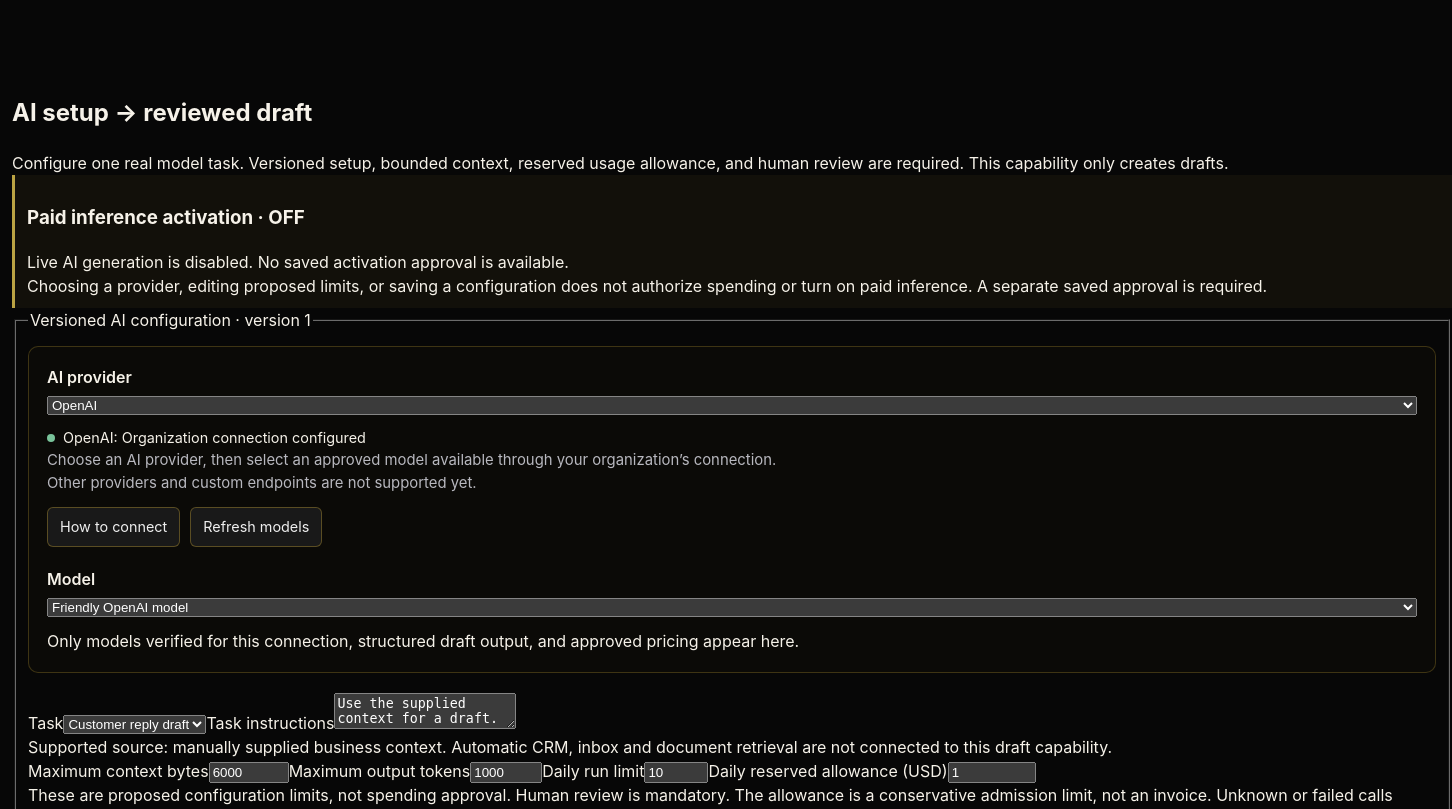
Test case: provider switch immediately clears model, then uses only models from the chosen provider
This screenshot has width=1452, height=809.
(page scrolled)
Expected: the text "Versioned AI configuration · version 1" is shown, [28, 308, 313, 332]
Select "Anthropic Claude" in the dropdown labelled "AI provider" at (732, 405), box [47, 396, 1417, 415]
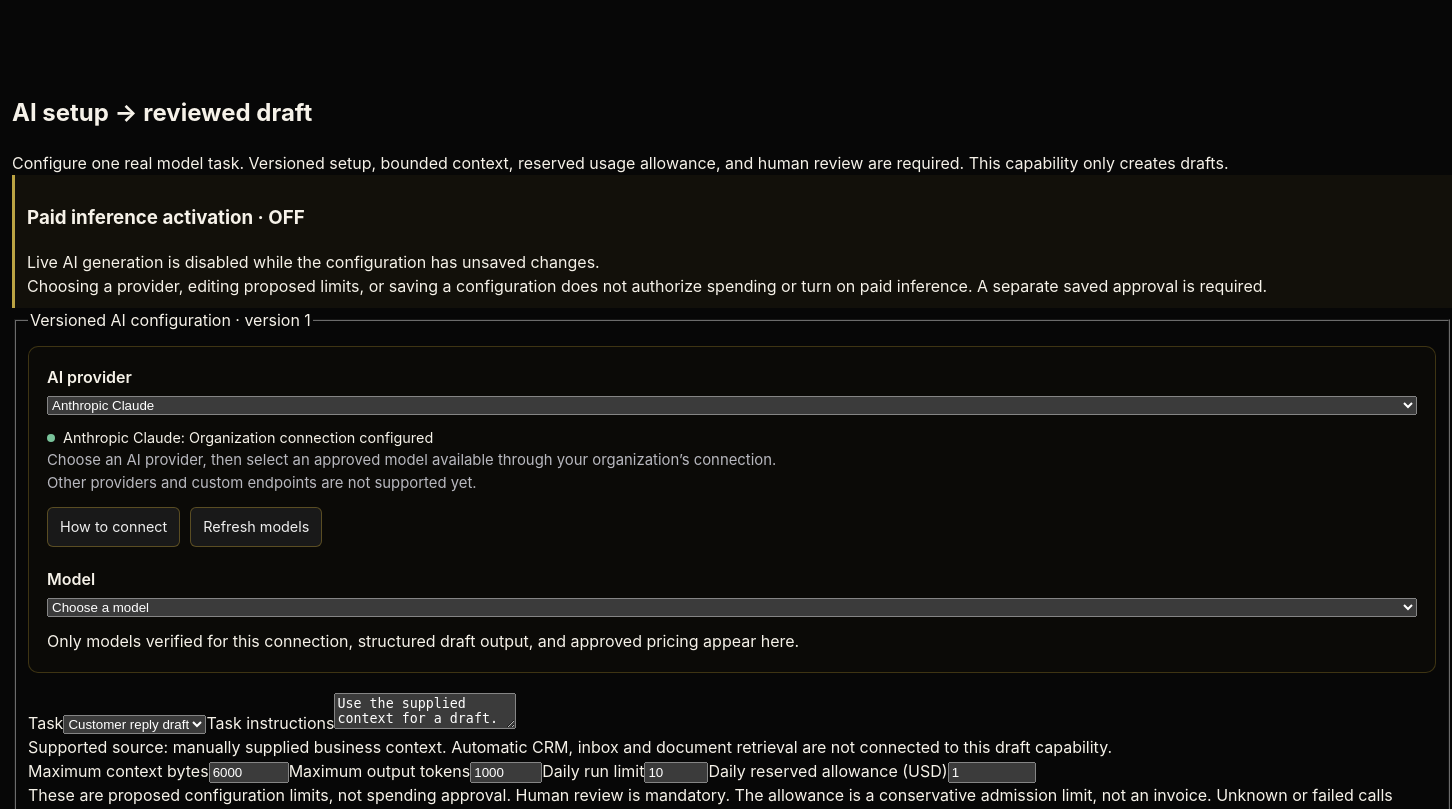
Expected: the option "Friendly OpenAI model" is not shown
Expected: the dropdown labelled "Model" shows "Choose a model"
Select "Friendly Claude model" in the dropdown labelled "Model" at (732, 608), box [47, 598, 1417, 617]
(page scrolled)
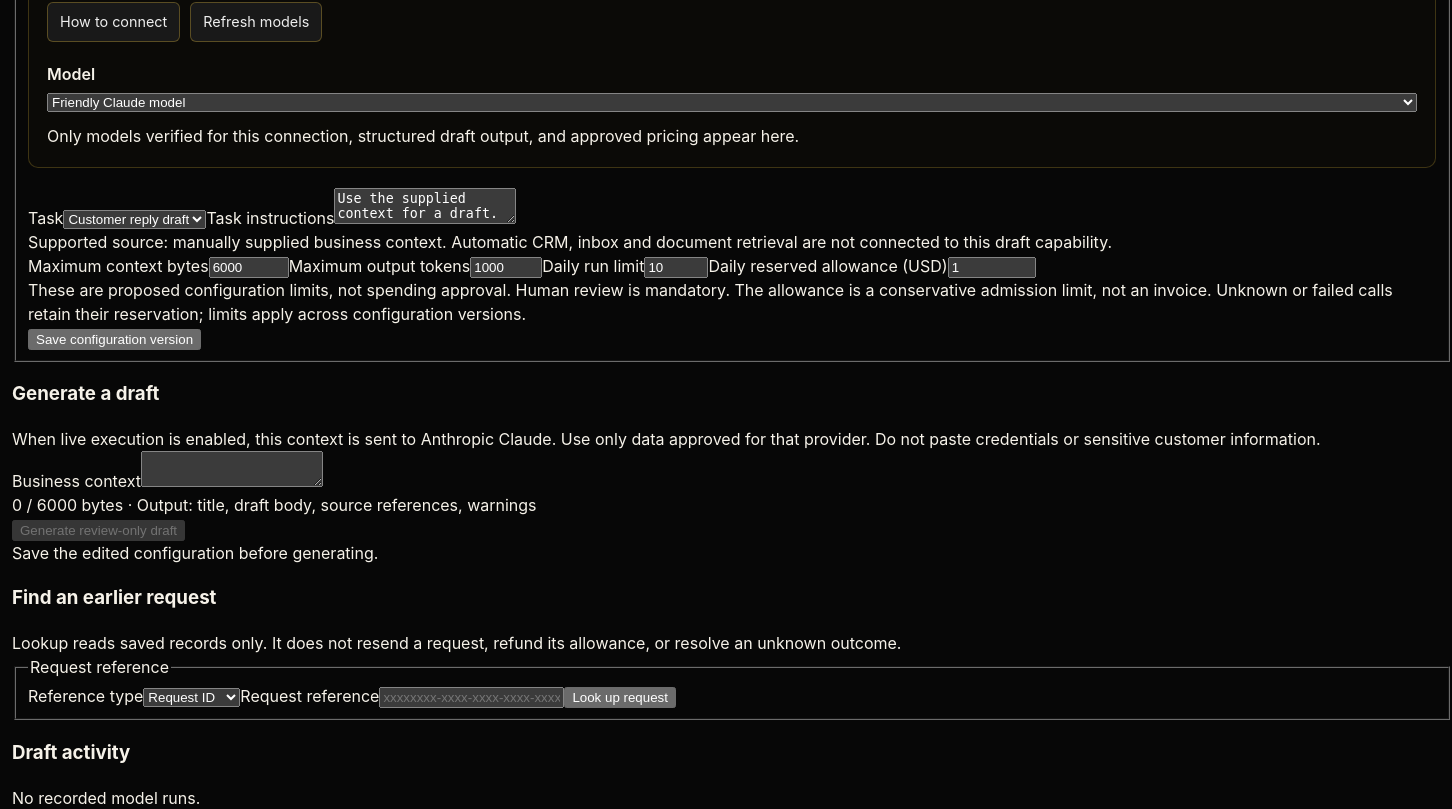
Expected: the text "this context is sent to Anthropic Claude" is shown, [12, 427, 1451, 451]
Expected: the button "Save configuration version" is enabled, [28, 329, 201, 350]
